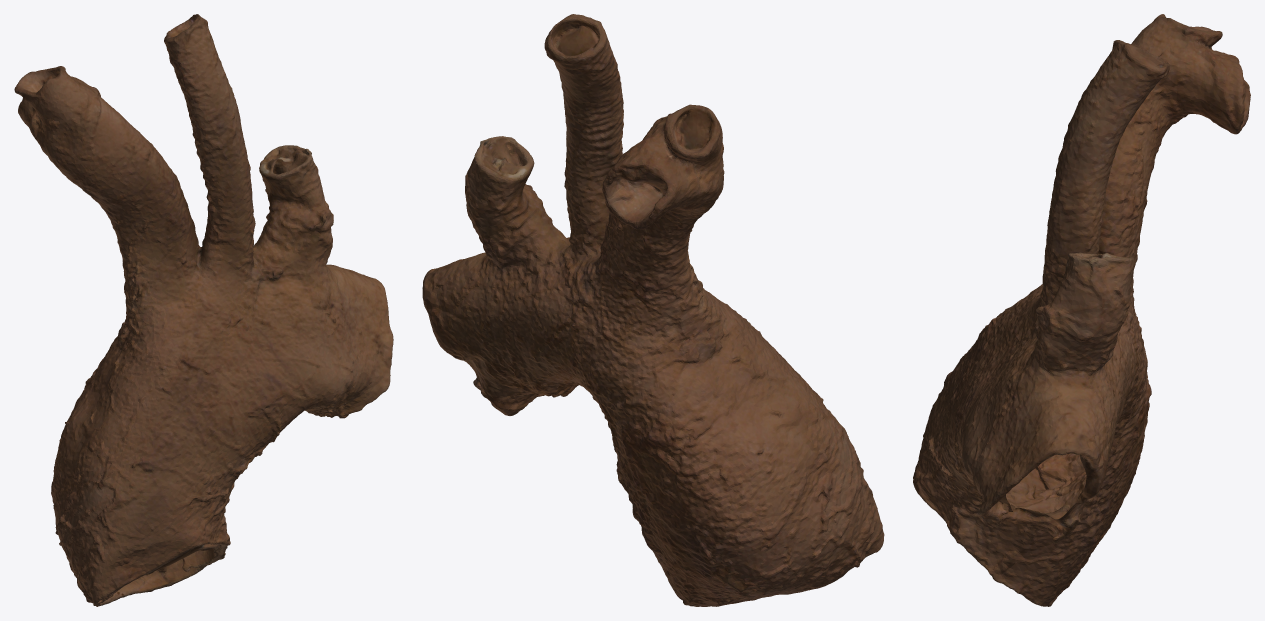
The model's file is aortic_arch_fixed.glb.
The picture shows the model from 3 angles, left to right: view 1: azimuth 30°, elevation 25°; view 2: azimuth 150°, elevation 25°; view 3: azimuth 270°, elevation 25°; orthographic projection. The views are drawn at different scales.
Parts seen in each view (by area): view 1: Object_8; view 2: Object_8; view 3: Object_8.
Boxes of the visible parts, x1=… form: Object_8: x1=14, y1=14, x2=393, y2=606; Object_8: x1=422, y1=14, x2=884, y2=606; Object_8: x1=913, y1=14, x2=1250, y2=606.
Size of the model in its own units: 63.39 by 92.74 by 47.48.
Materials: 1 (1 with a texture image).
